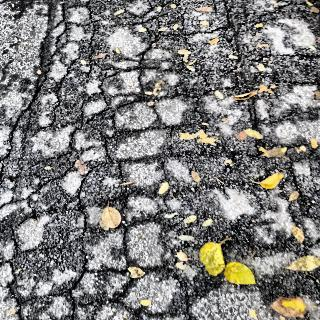alligator-crack: (17, 23, 283, 316)
